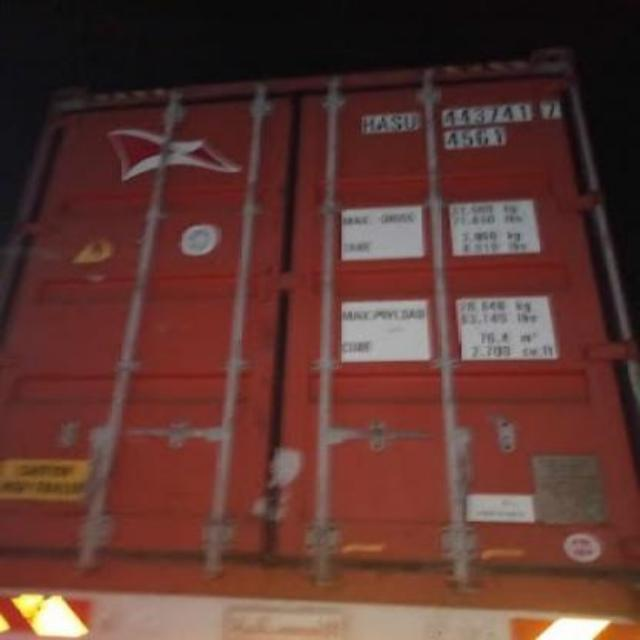1: (516, 100, 528, 124)
3: (470, 101, 486, 125)
4: (500, 100, 516, 122), (456, 103, 469, 127), (444, 108, 458, 128)
7: (536, 98, 560, 118), (484, 100, 498, 124)
A: (374, 114, 388, 136)
H: (360, 112, 376, 136)
S: (388, 110, 402, 136)
U: (402, 108, 416, 136)
